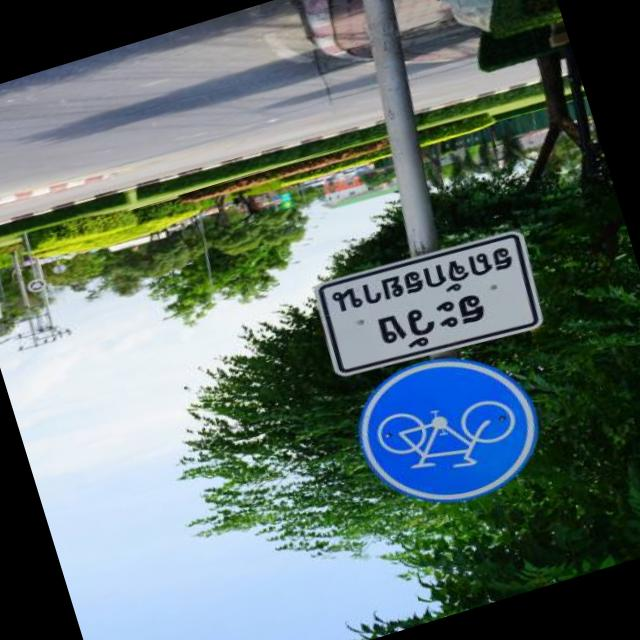bicycle: (312, 336, 554, 542)
